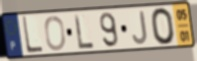9: (98, 11, 120, 48)
J: (131, 9, 149, 46)
L: (21, 15, 44, 55), (73, 13, 96, 51)
O: (149, 7, 177, 47), (43, 15, 67, 52)
